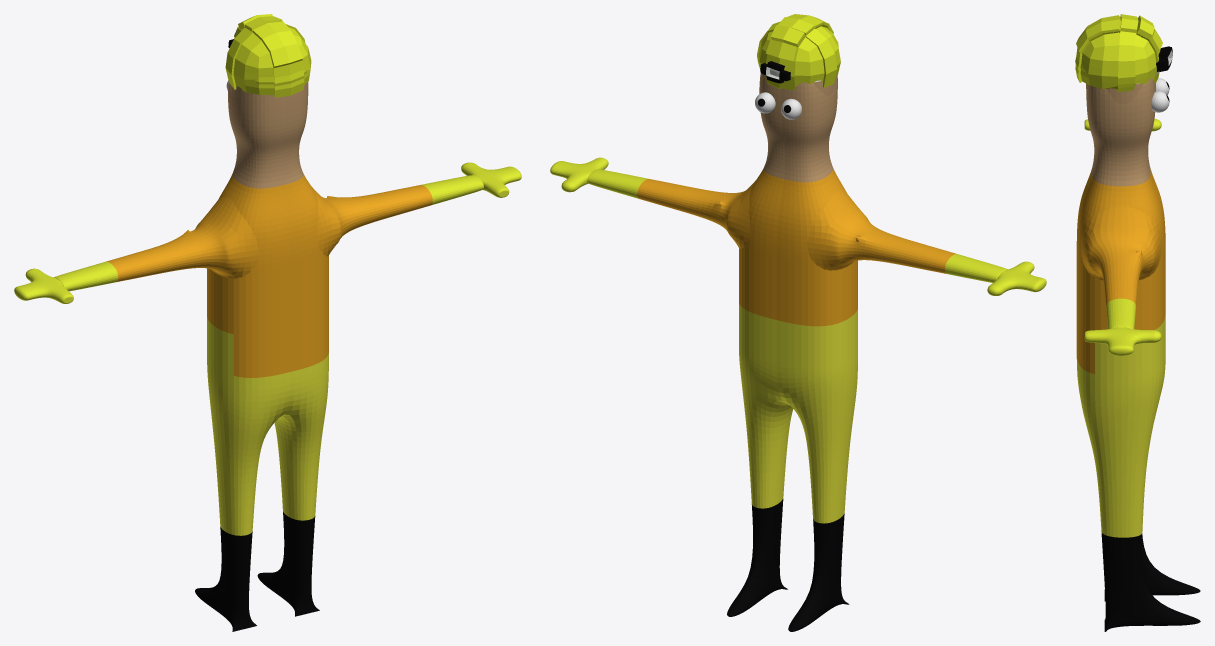
Rendered from prototype character.blend11.fbx.
3 renders of one model, left to right at view 1: azimuth 30°, elevation 25°; view 2: azimuth 150°, elevation 25°; view 3: azimuth 270°, elevation 25°, orthographic. The views are drawn at different scales.
Visible parts, largest first — view 1: Cube, Cube.001; view 2: Cube, Cube.001; view 3: Cube, Cube.001, Sphere, Sphere.002.
Part boxes in pixels (<box>): Cube: <box>14,82,521,631</box>; Cube.001: <box>225,14,311,97</box>; Cube: <box>550,73,1046,631</box>; Cube.001: <box>757,14,840,90</box>; Cube: <box>1076,78,1200,631</box>; Cube.001: <box>1075,14,1162,92</box>; Sphere: <box>1156,46,1172,75</box>; Sphere.002: <box>1151,91,1169,112</box>.
Size of the model in its own units: 658 by 746 by 144.
